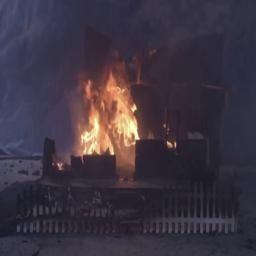fire: (65, 57, 165, 164)
